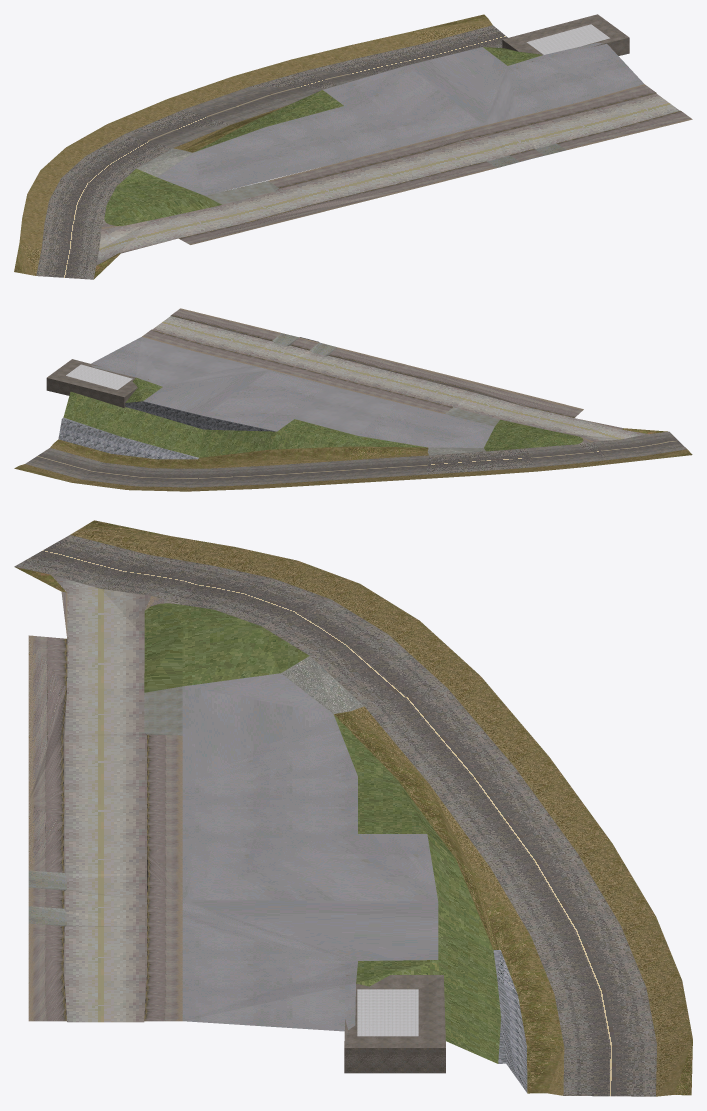
The model's file is lod_s_bit_04.obj.
3 views of the same model, one above another, from view 1: azimuth 30°, elevation 25°; view 2: azimuth 150°, elevation 25°; view 3: azimuth 270°, elevation 25° (orthographic). The views are drawn at different scales.
Parts seen in each view (by area): view 1: lod_s_bit_04; view 2: lod_s_bit_04; view 3: lod_s_bit_04.
Boxes of the visible parts, x1,y1,x2,y2 form: lod_s_bit_04: [14, 14, 692, 279]; lod_s_bit_04: [14, 308, 692, 491]; lod_s_bit_04: [14, 520, 692, 1096].
Bounding box in the file's own units: 166 × 13.27 × 88.13.
12 materials, 12 textured.
